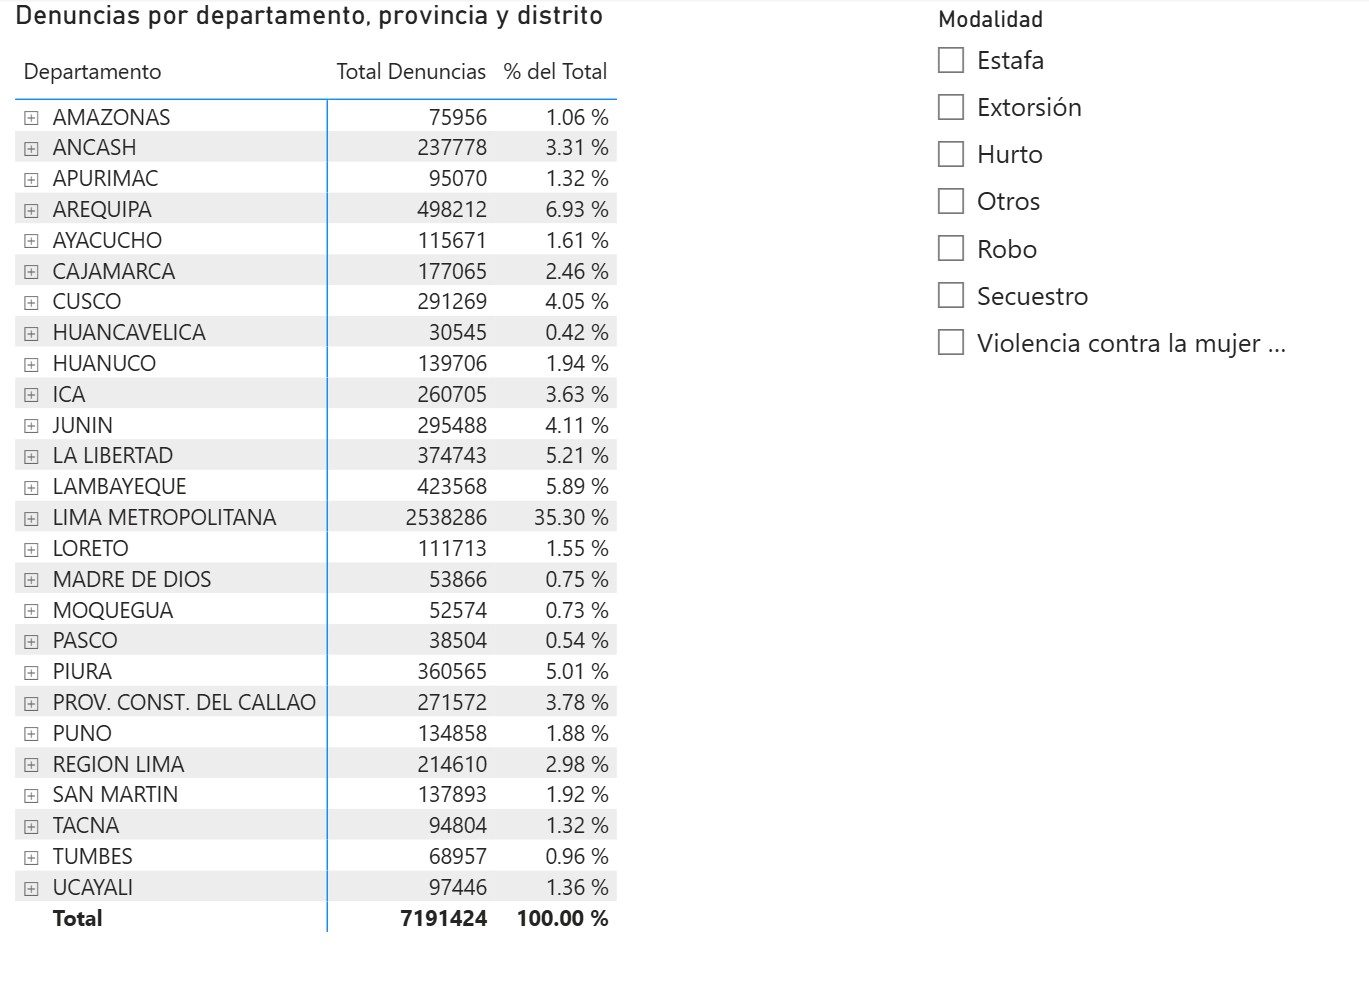

The dashboard page shown, as its layout file describes it:
{"tool":"powerbi","page":{"name":"Detalle territorial","canvas":[1280,720],"ordinal":2},"visuals":[{"type":"pivotTable","title":"Denuncias por departamento, provincia y distrito","fields":{"Rows":["Dim Geografia.Geografía.Departamento","Dim Geografia.Geografía.Provincia","Dim Geografia.Geografía.Distrito"],"Values":["_Medidas.Total Denuncias","_Medidas.% del Total Departamento"]},"box":[18.8,0,566.2,719.8],"z":0},{"type":"slicer","fields":{"Values":["Dim Modalidad.Modalidad"]},"box":[565.5,0,240,720],"z":1000}]}

Visuals, with their boxes on the page's 1280x720 design canvas (x1, y1, x2, y2). These are canvas units, not pixel positions in the 1369x985 screenshot, which may show the page scaled, cropped or inside an application window:
"Denuncias por departamento, provincia y distrito" pivotTable: locate(19, 0, 585, 720)
slicer - Dim Modalidad.Modalidad: locate(566, 0, 806, 720)
